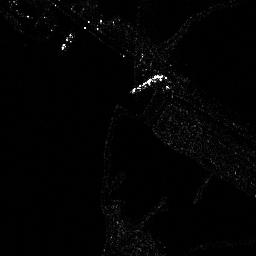ship: (129, 73, 165, 94)
